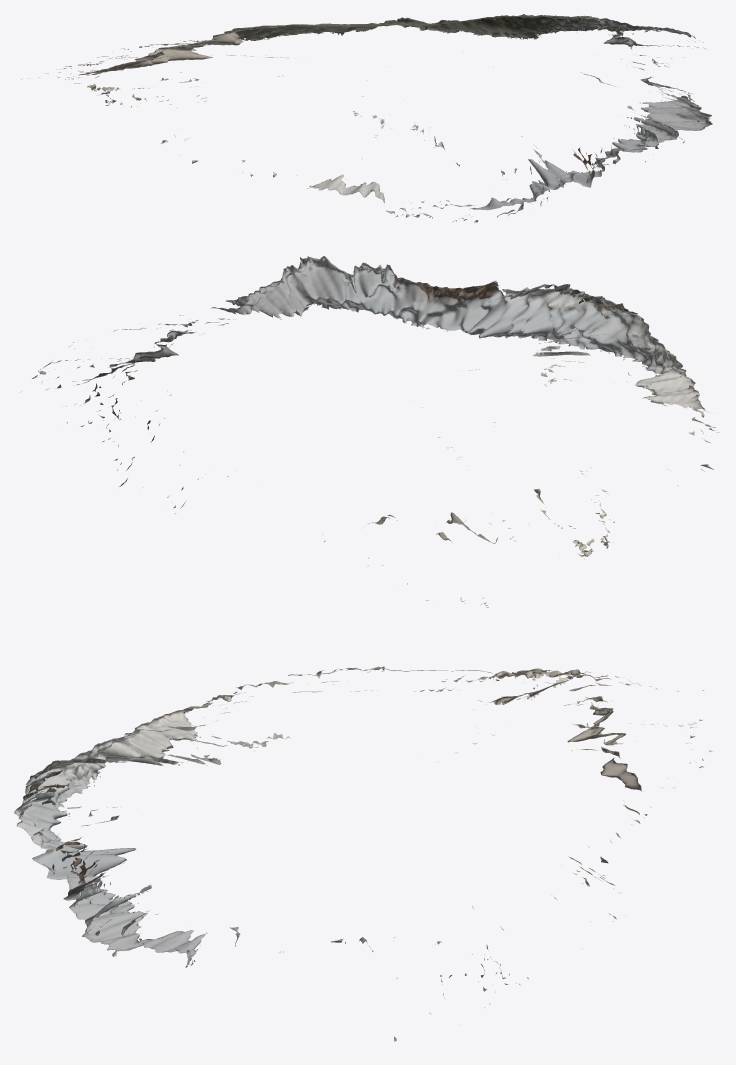
The model's file is world-1770270166538.glb.
3 views of the same model, one above another, from view 1: azimuth 30°, elevation 25°; view 2: azimuth 150°, elevation 25°; view 3: azimuth 270°, elevation 25° (orthographic). The views are drawn at different scales.
Visible parts, largest first — view 1: world; view 2: world; view 3: world.
Boxes of the visible parts, box(x1,y1,x2,y2) form: world: box(21, 14, 712, 222); world: box(21, 256, 719, 607); world: box(14, 666, 712, 1041).
Bounding box in the file's own units: 167 × 19.78 × 143.
